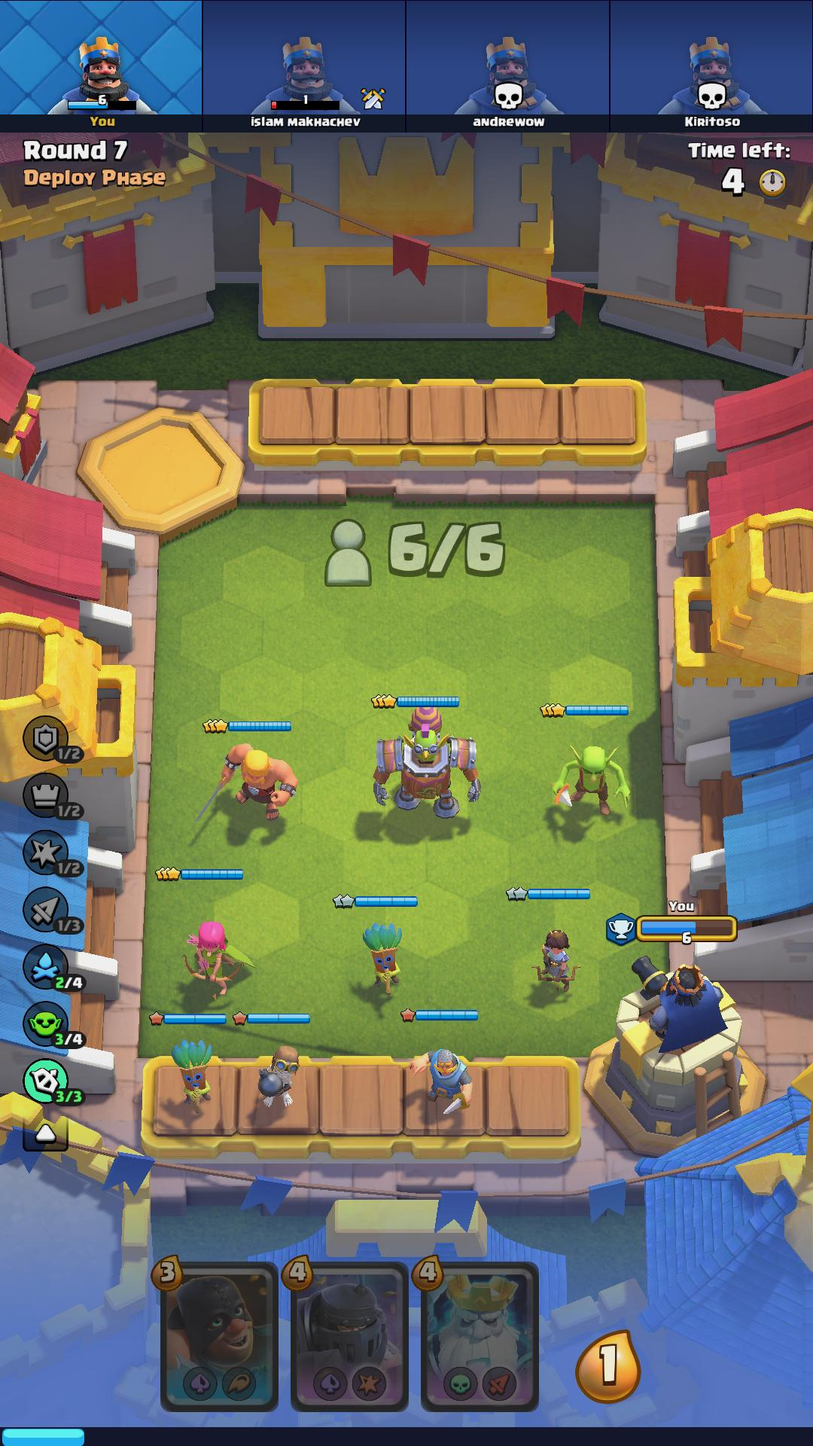archer: (170, 906, 252, 1000)
barbarian: (216, 736, 295, 824)
bomber: (256, 1033, 303, 1108)
dart: (353, 917, 412, 996), (162, 1037, 219, 1111)
goblin: (549, 735, 627, 825)
hand-executioner: (159, 1261, 278, 1406)
hand-ghost: (421, 1264, 541, 1410)
hand-mega: (291, 1261, 409, 1407)
knight: (409, 1040, 478, 1115)
machine: (370, 705, 484, 823)
princess: (528, 923, 584, 998)
